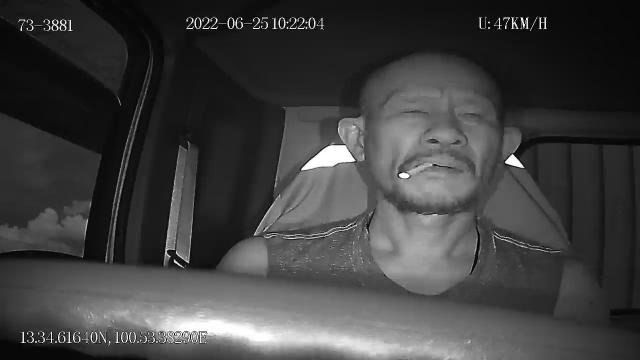Cigarette: (398, 163, 432, 179)
